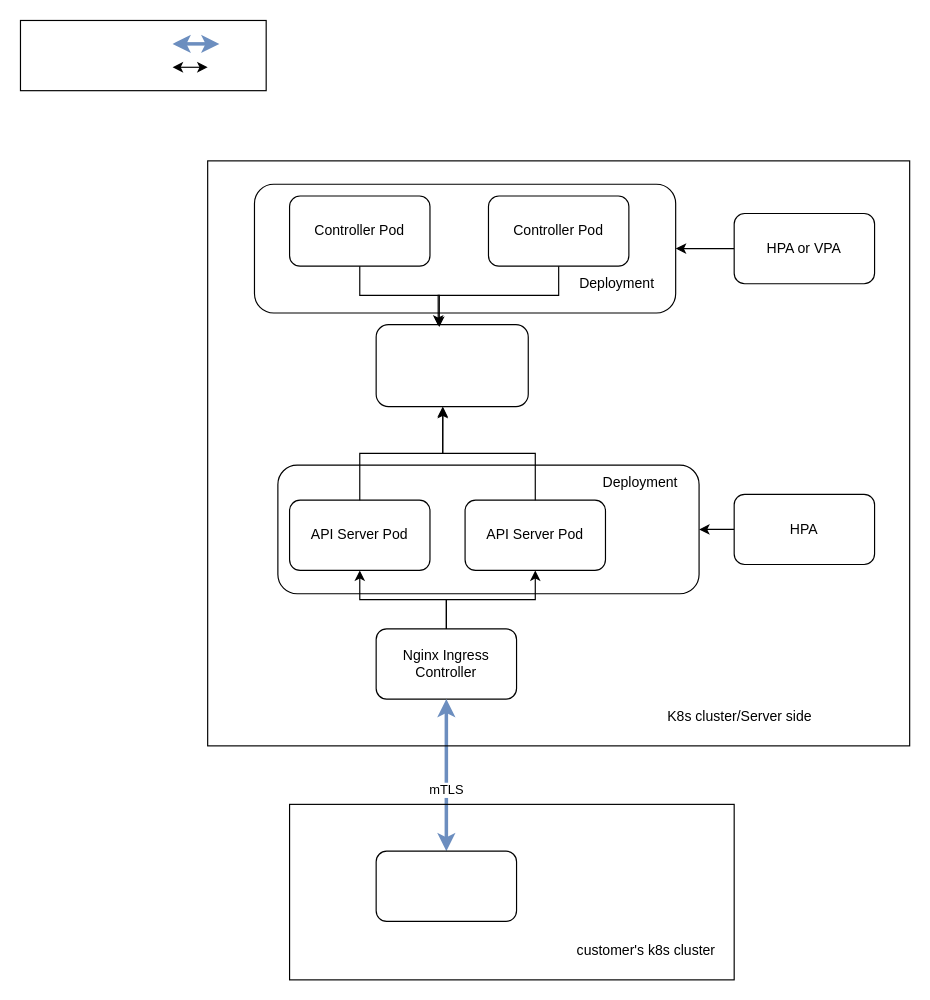
The diagram is 930 pixels wide and 1000 high, and some of its shapes have lost their labels. The shapes that lost their labels are listed below. From the top down, each one's box as (x1, y1, x2, y2) in pixels, then its label:
(19, 19, 266, 91): Public network traffic: Internal network traffic:
(375, 324, 528, 407): Database （HA is required)
(375, 850, 517, 921): Agent
